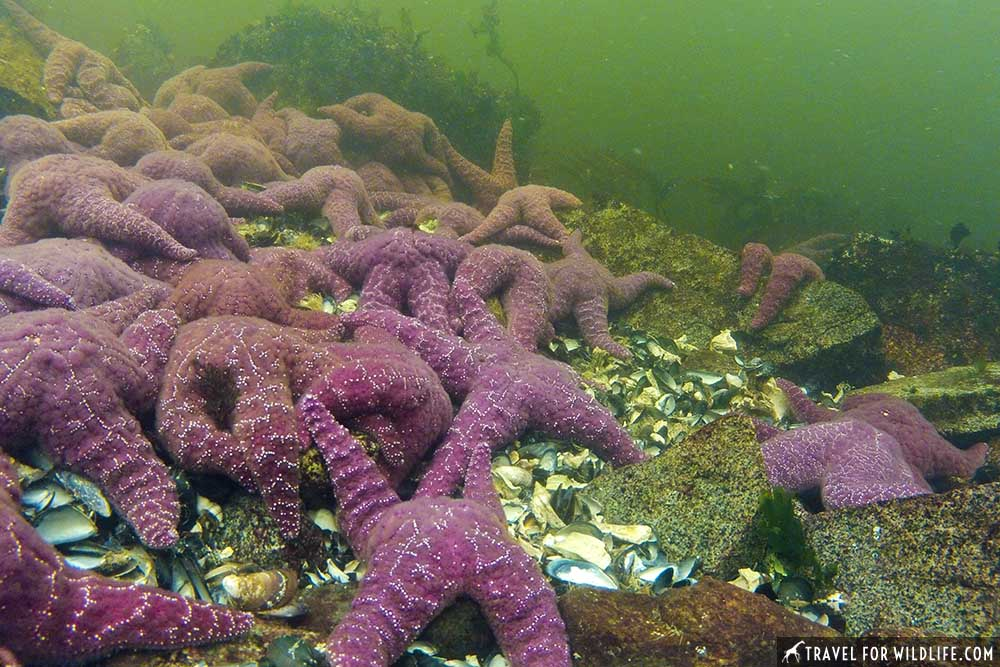starfish: (297, 418, 575, 667), (384, 283, 647, 493), (138, 304, 335, 518), (757, 372, 987, 539), (10, 146, 206, 277), (450, 132, 599, 282)
